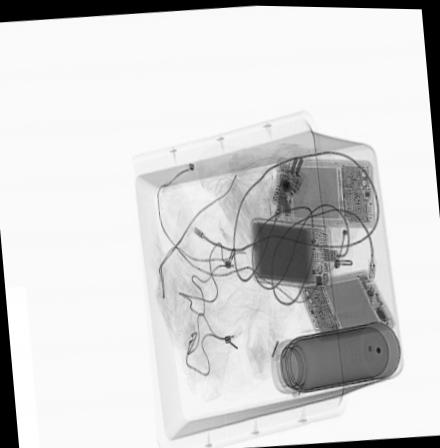Powerbank: (247, 217, 332, 287)
